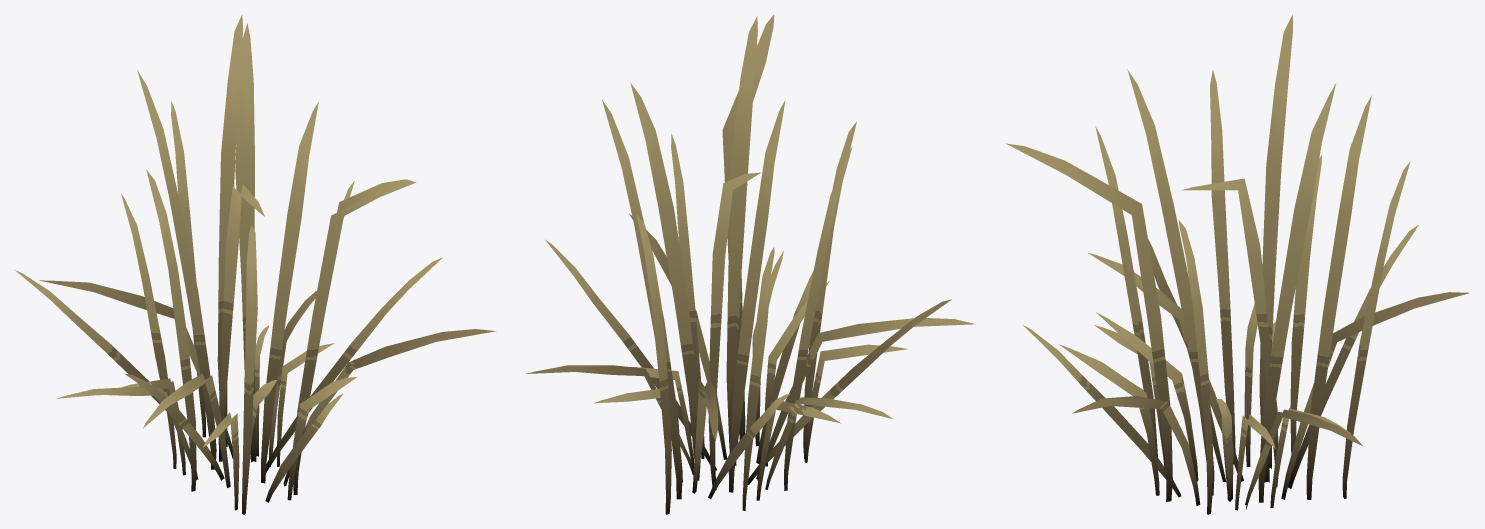
The model's file is dry-fiber-loose-stems.glb.
3 views of the same model, side by side, from view 1: azimuth 30°, elevation 25°; view 2: azimuth 150°, elevation 25°; view 3: azimuth 270°, elevation 25° (orthographic). The views are drawn at different scales.
Visible parts, largest first — view 1: dry-fiber-loose-stems runtime mesh; view 2: dry-fiber-loose-stems runtime mesh; view 3: dry-fiber-loose-stems runtime mesh.
Part boxes in pixels (x1,y1,x2,y2): dry-fiber-loose-stems runtime mesh: (15, 14, 496, 514); dry-fiber-loose-stems runtime mesh: (526, 14, 975, 514); dry-fiber-loose-stems runtime mesh: (1005, 15, 1469, 514).
Size of the model in its own units: 0.3869 by 0.42 by 0.4004.
Materials: 1 (1 with a texture image).
